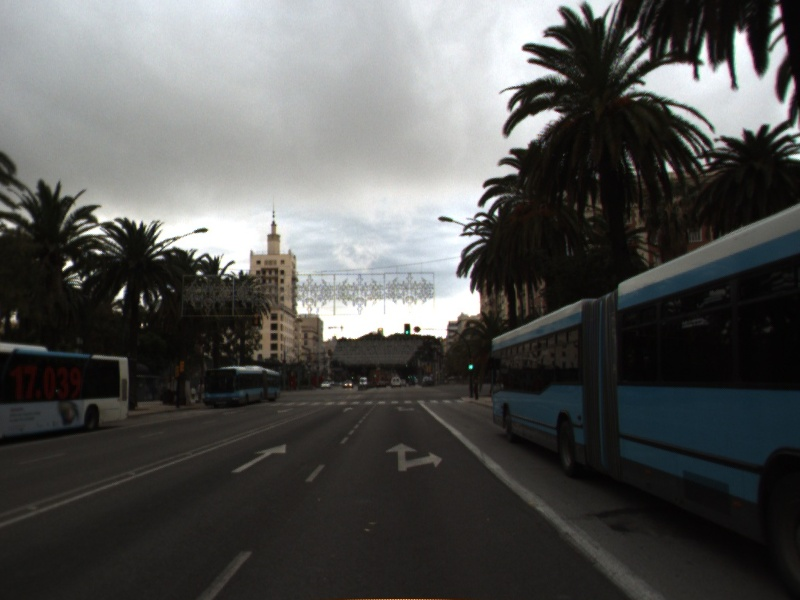STRAIGHT: (228, 442, 289, 475), (341, 405, 356, 414)
STRAIGHT_RIGHT: (383, 441, 445, 474), (393, 405, 417, 413)
